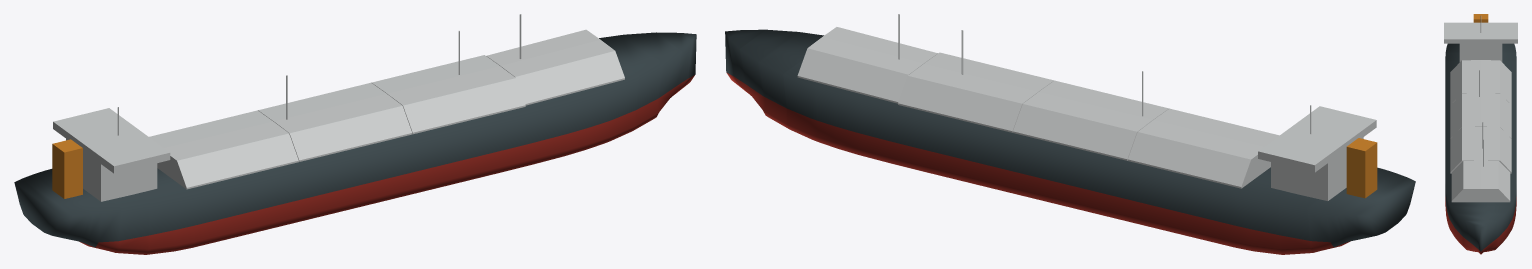
The model's file is lng-changheng-ship-proxy.glb.
The picture shows the model from 3 angles, left to right: view 1: azimuth 30°, elevation 25°; view 2: azimuth 150°, elevation 25°; view 3: azimuth 270°, elevation 25°; orthographic projection. The views are drawn at different scales.
Parts seen in each view (by area): view 1: ShipProxy; view 2: ShipProxy; view 3: ShipProxy.
Part boxes in pixels (bbox=[...]): ShipProxy: bbox=[14, 14, 696, 254]; ShipProxy: bbox=[725, 14, 1415, 254]; ShipProxy: bbox=[1444, 14, 1517, 254].
Size of the model in its own units: 299 by 58.45 by 48.
